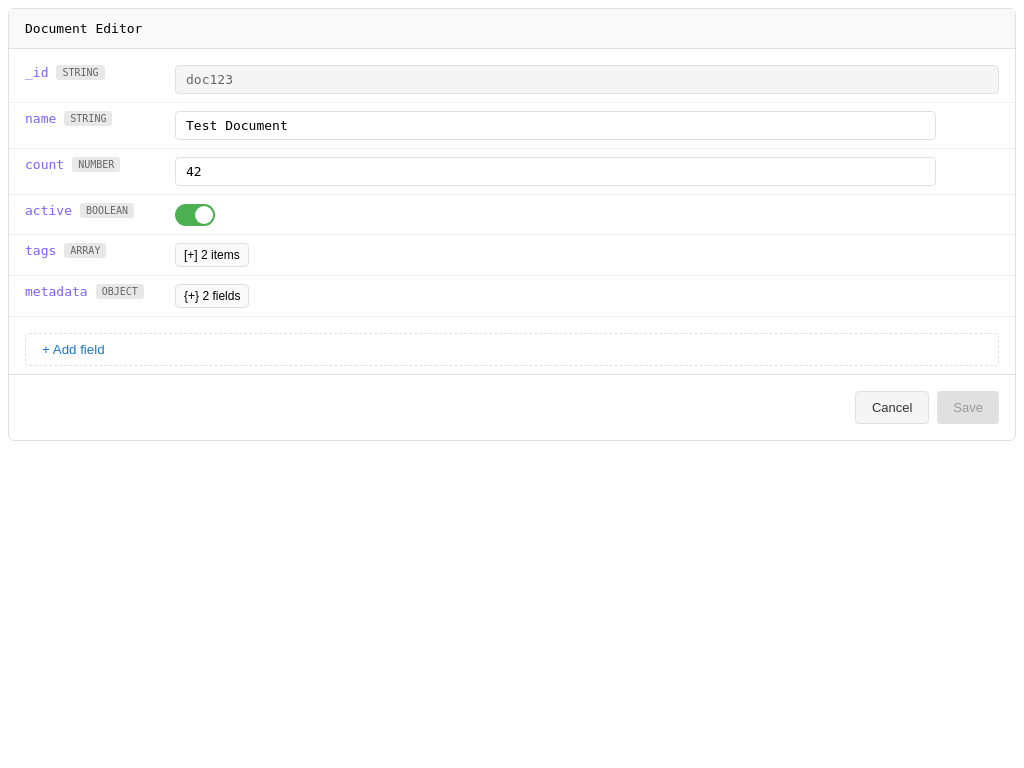
DocumentEditor › inline field editing › expands nested objects to show child fields
This screenshot has width=1024, height=768.
Step 1. Click the button with aria-label "expand" → (212, 296), box top-left (175, 284), bottom-right (249, 308)
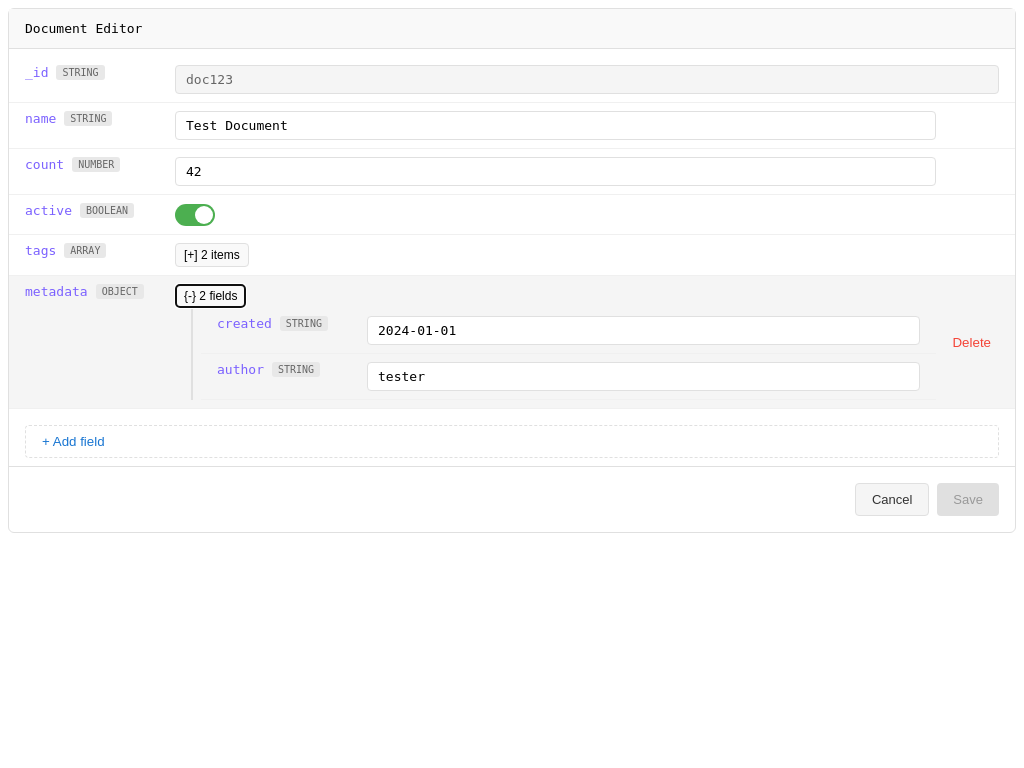
Expected: the text "created" is shown, top-left (217, 316), bottom-right (272, 331)
Expected: the text "author" is shown, top-left (217, 362), bottom-right (264, 377)
